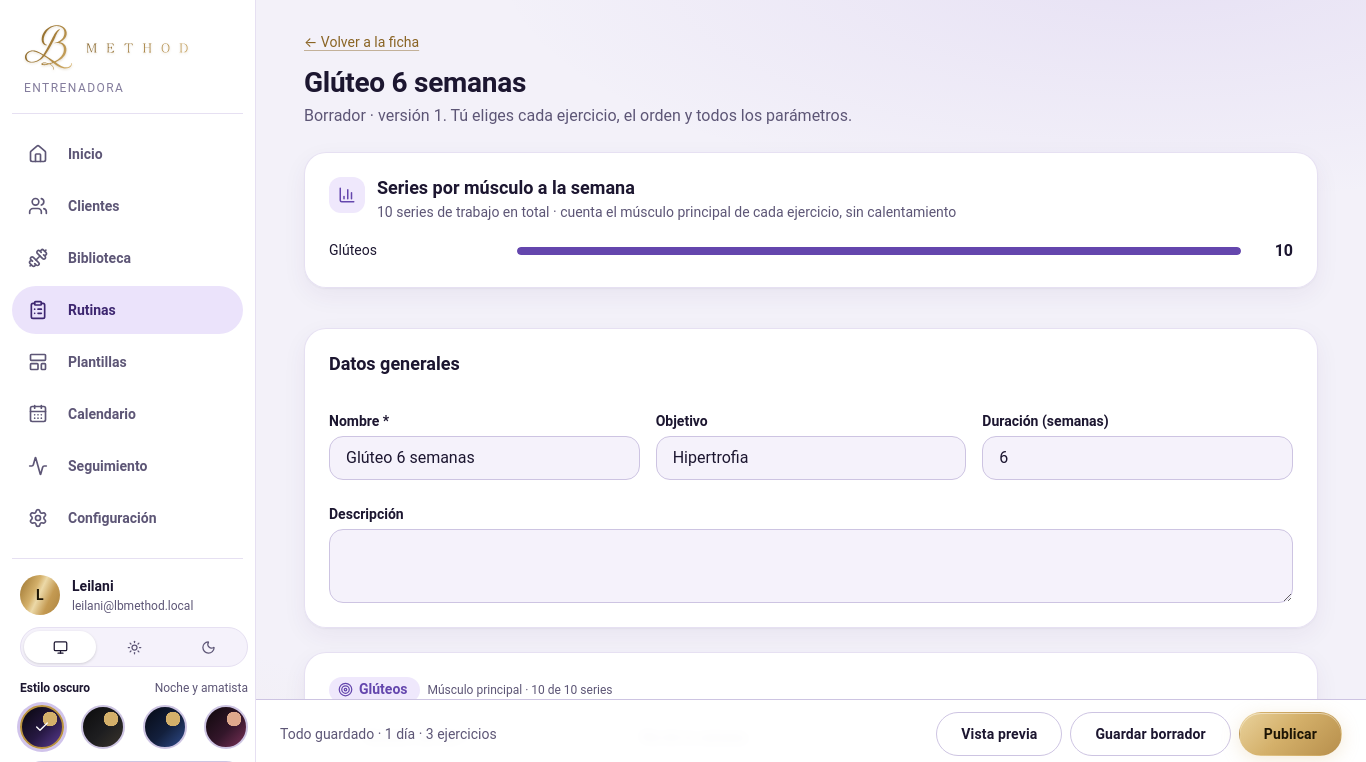
Test: rutinas › la vista previa muestra los días y agrupa la superserie
Step 1. Click the button "Vista previa" → (999, 734), box [936,712,1062,756]
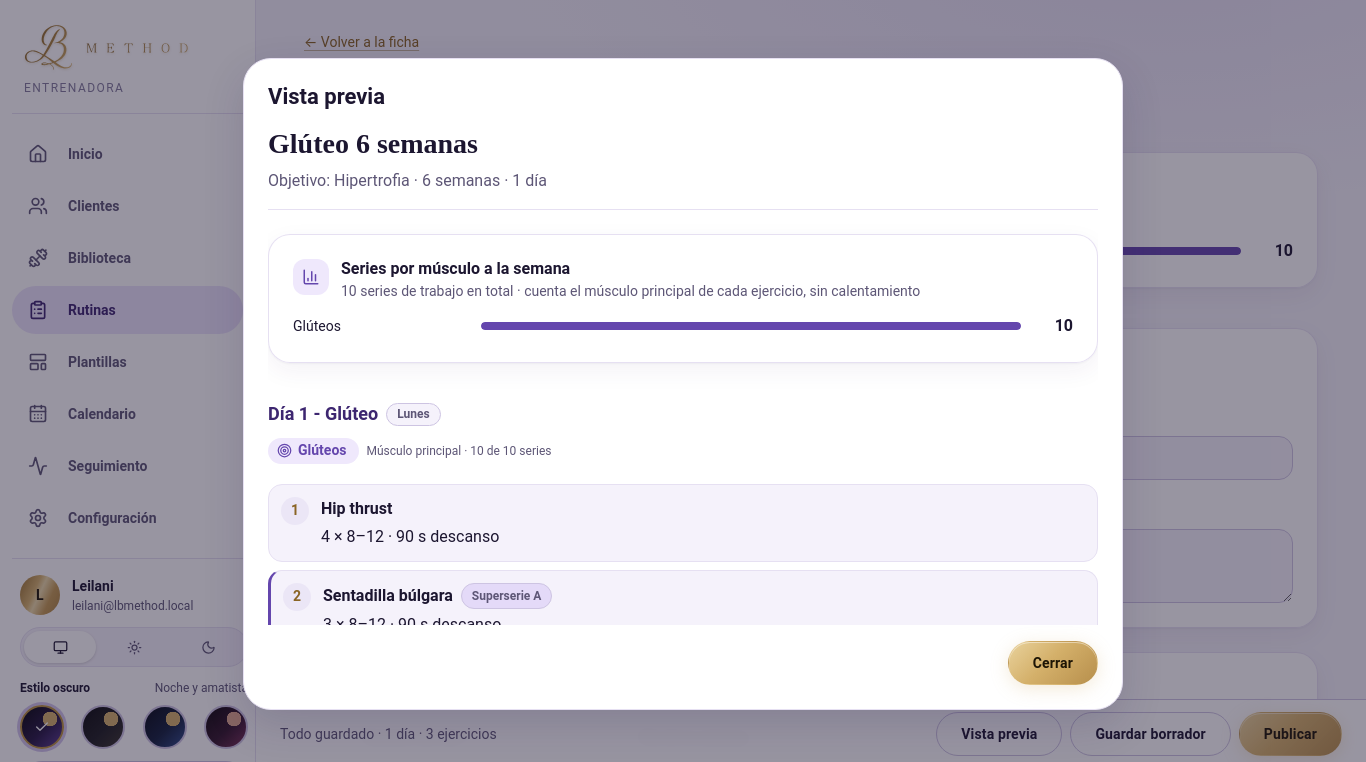
Expected: the heading "Día 1 - Glúteo Lunes" is shown, [268,403,441,426]
Expected: the text "Lunes" is shown, [386,403,441,426]
Expected: the text "Superserie A" is shown 2 times
